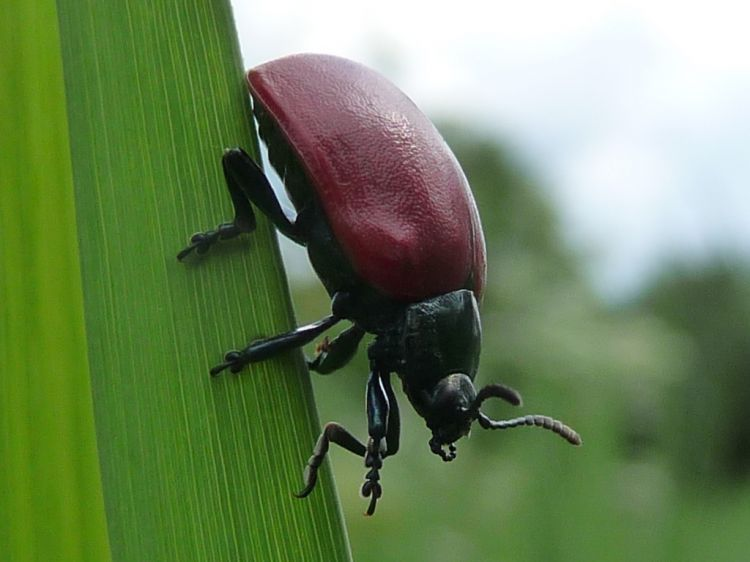Chrysomela_populi: (168, 43, 592, 523)
